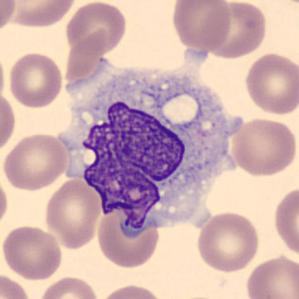Monocyte: (54, 57, 247, 238)
RBC: (42, 176, 103, 251), (94, 204, 162, 270), (194, 209, 262, 274), (228, 115, 298, 178), (0, 130, 70, 192), (202, 0, 270, 60), (0, 223, 65, 281), (63, 0, 129, 56), (243, 51, 298, 116), (6, 50, 65, 110), (169, 0, 233, 51), (243, 253, 298, 299), (2, 0, 78, 29), (272, 183, 298, 258), (38, 274, 102, 299), (98, 282, 165, 299), (0, 88, 17, 154), (0, 272, 33, 299), (0, 0, 18, 36), (0, 174, 10, 230), (0, 48, 7, 107), (170, 294, 226, 299), (270, 0, 299, 8)
